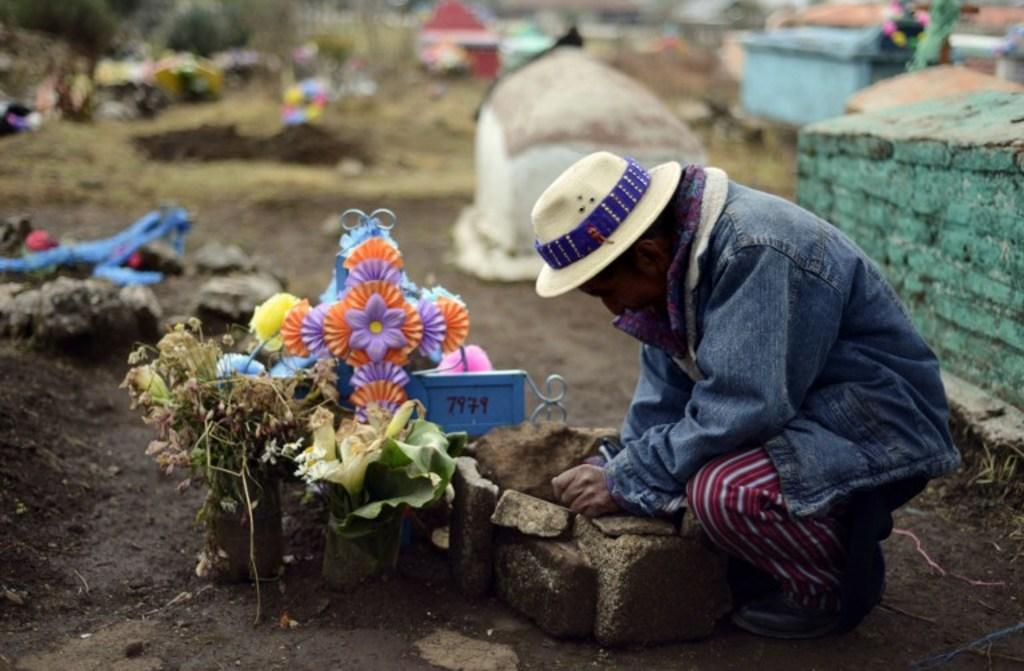Hat: (534, 147, 686, 302)
